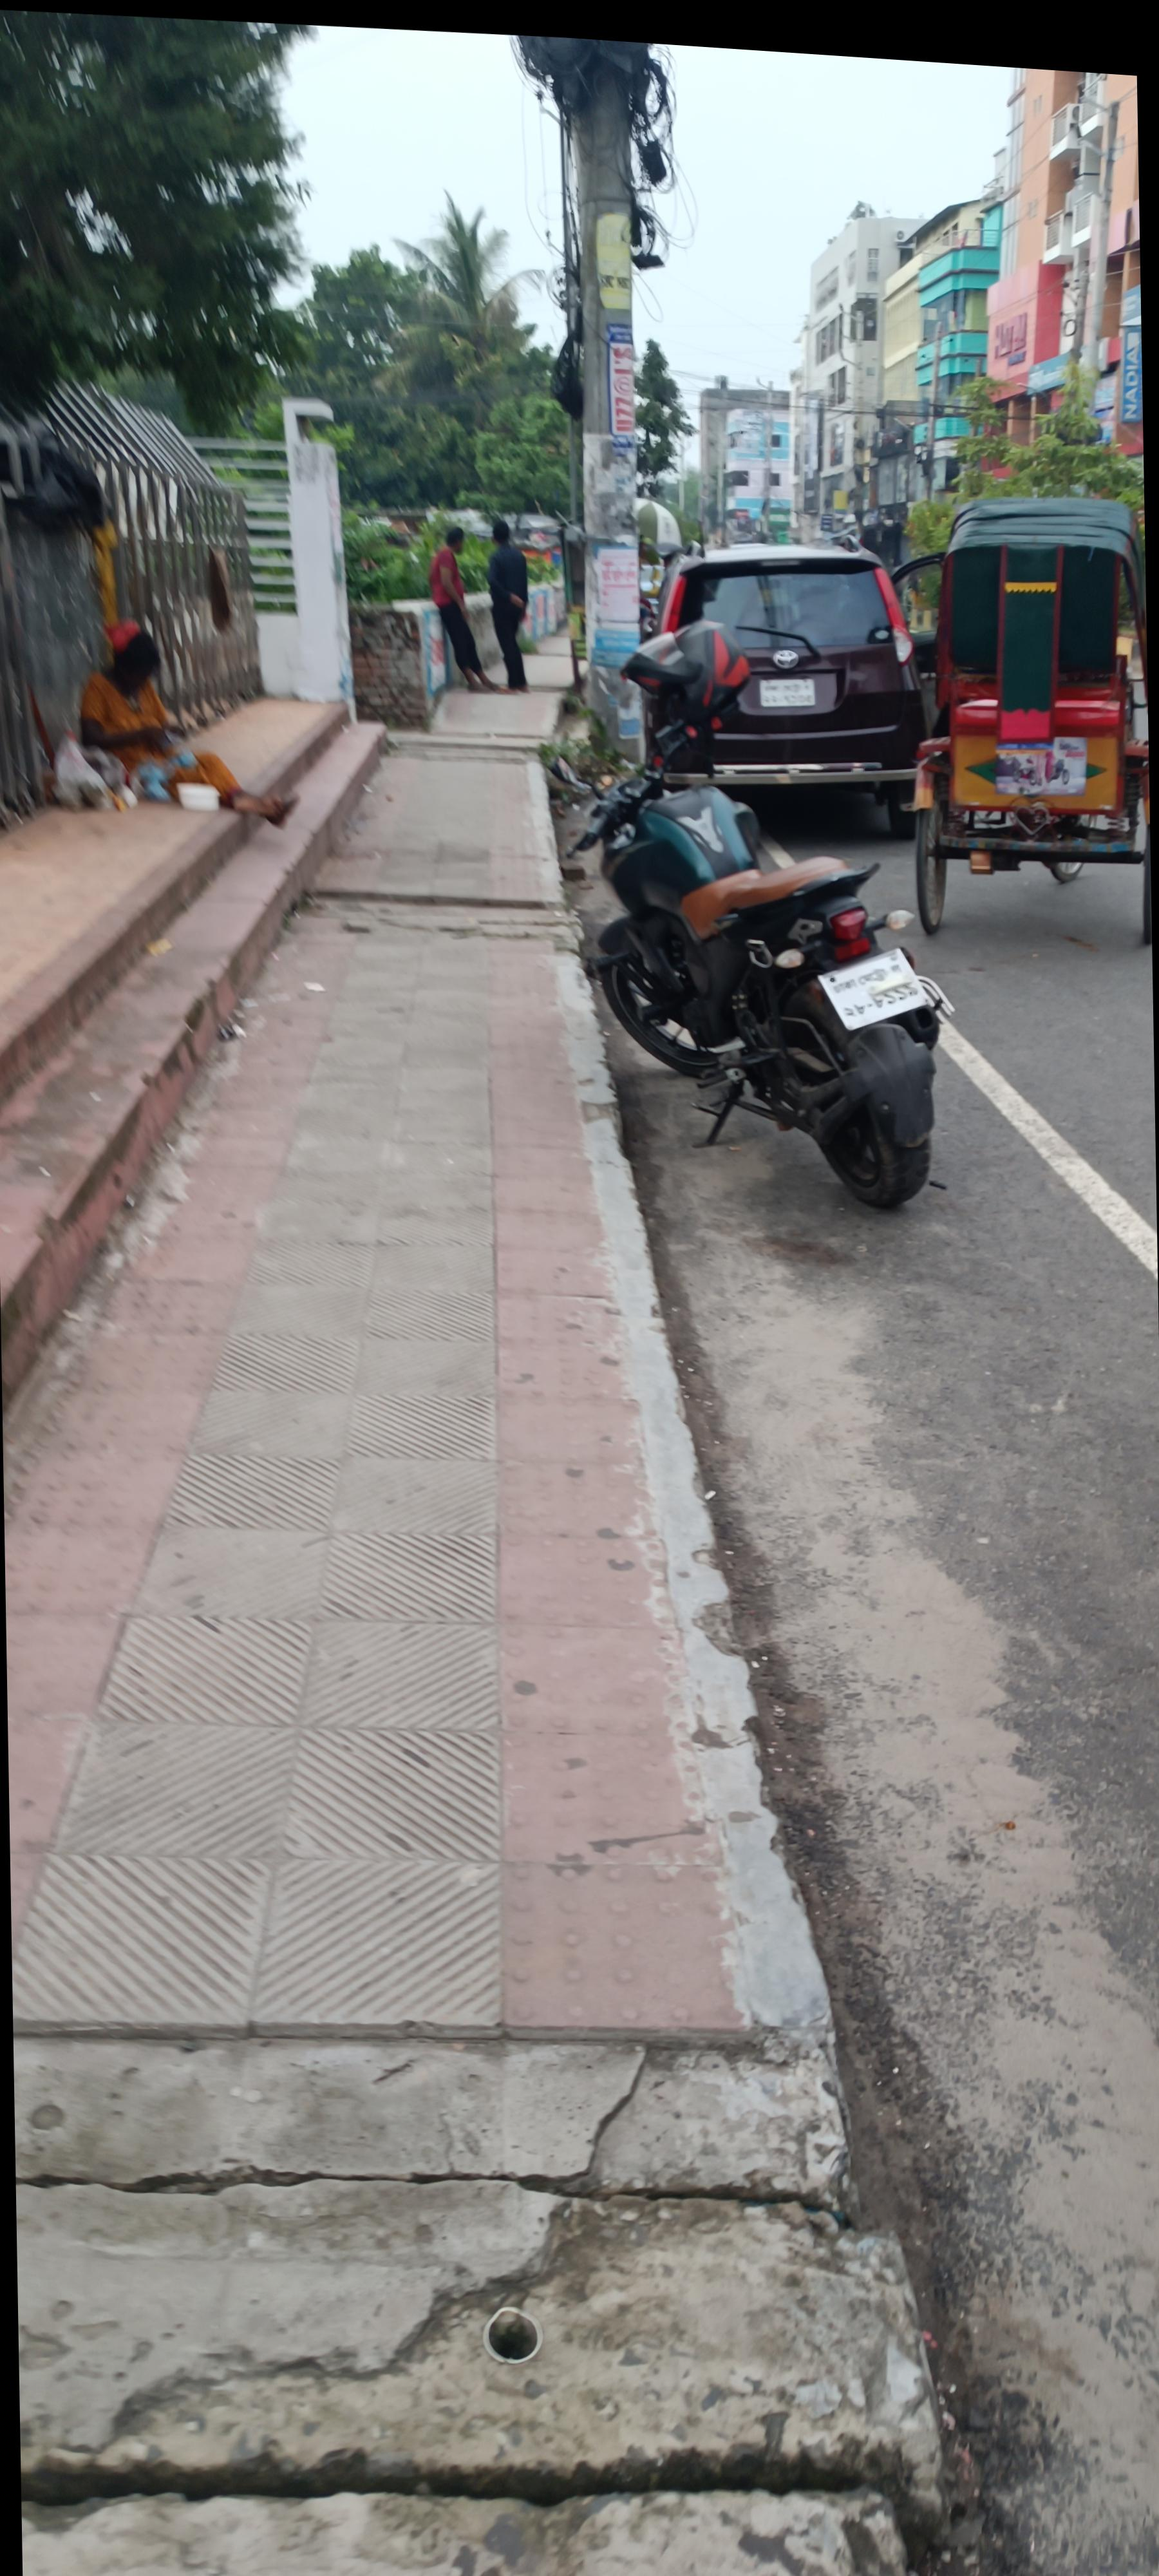Fallen-tree: (525, 608, 936, 1216)
Garbage: (878, 476, 1128, 943)
Garbage-bin: (56, 619, 277, 836), (407, 526, 481, 697), (465, 517, 509, 693)
Motorcycle: (456, 2302, 522, 2371)
